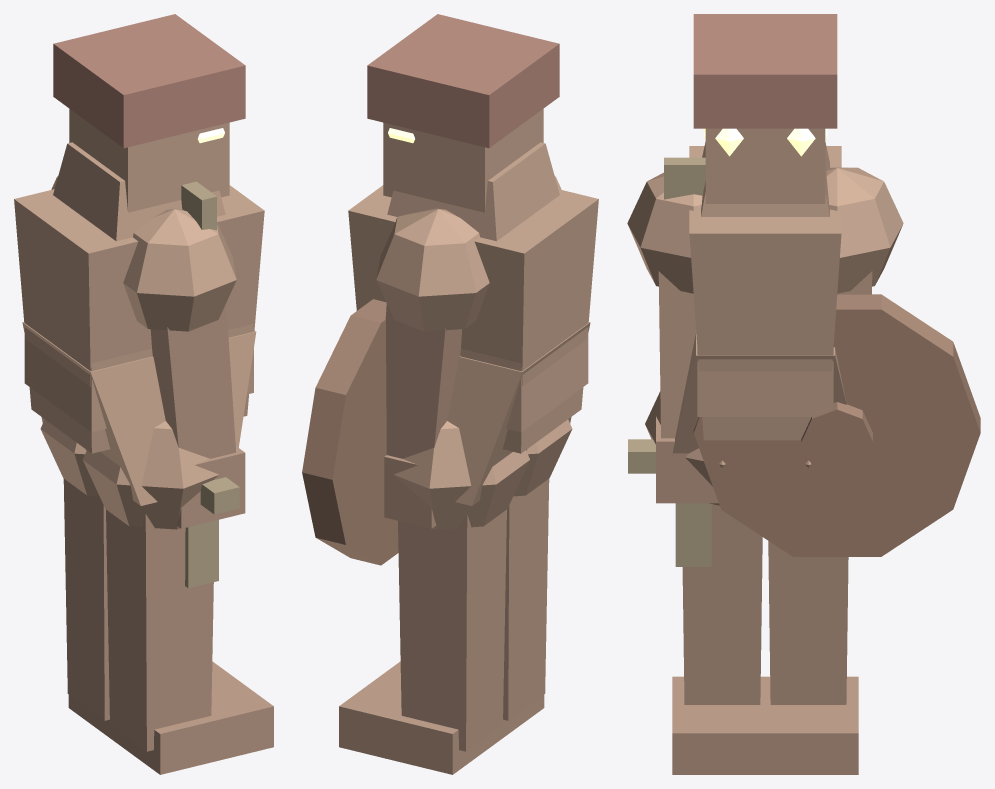
Rendered from raider.glb.
3 views of the same model, side by side, from view 1: azimuth 30°, elevation 25°; view 2: azimuth 150°, elevation 25°; view 3: azimuth 270°, elevation 25° (orthographic).
Parts seen in each view (by area): view 1: body, legR, wrap, armR, legL, head, blade; view 2: body, legL, wrap, shield_face, armL, legR, head; view 3: body, shield_face, legR, legL, wrap, head, armR, blade, eye.
Part boxes in pixels (x1,y1,x2,y2): body: (14, 142, 264, 529); legR: (106, 509, 273, 774); wrap: (53, 14, 245, 148); armR: (150, 303, 245, 528); legL: (63, 479, 231, 743); head: (69, 109, 229, 212); blade: (181, 181, 239, 588); body: (348, 142, 598, 529); legL: (339, 509, 506, 774); wrap: (367, 14, 559, 148); shield_face: (302, 299, 398, 565); armL: (384, 303, 462, 528); legR: (381, 479, 549, 741); head: (383, 109, 543, 212); body: (627, 142, 903, 505); shield_face: (693, 294, 980, 556); legR: (672, 504, 772, 774); legL: (758, 541, 858, 774); wrap: (693, 14, 837, 128); head: (705, 128, 825, 203); armR: (656, 271, 718, 503); blade: (628, 157, 711, 566); eye: (703, 128, 827, 156).
Bounding box in the file's own units: 0.3484 × 1.28 × 0.5911.
